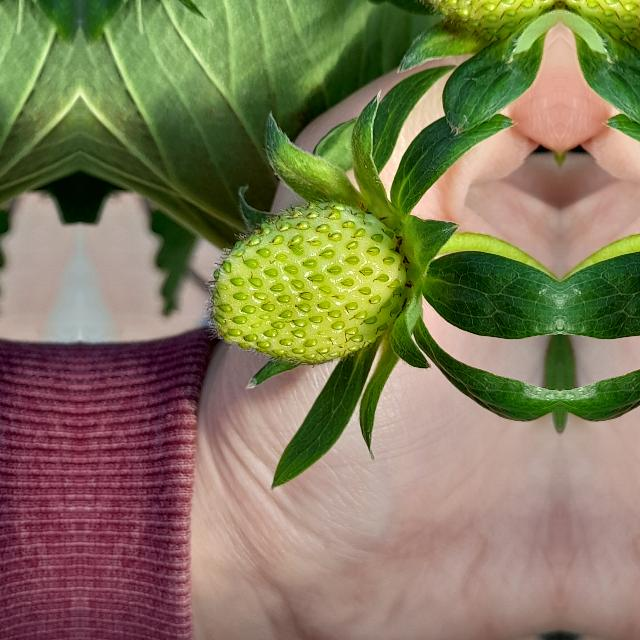Health_25: (203, 196, 407, 368)
